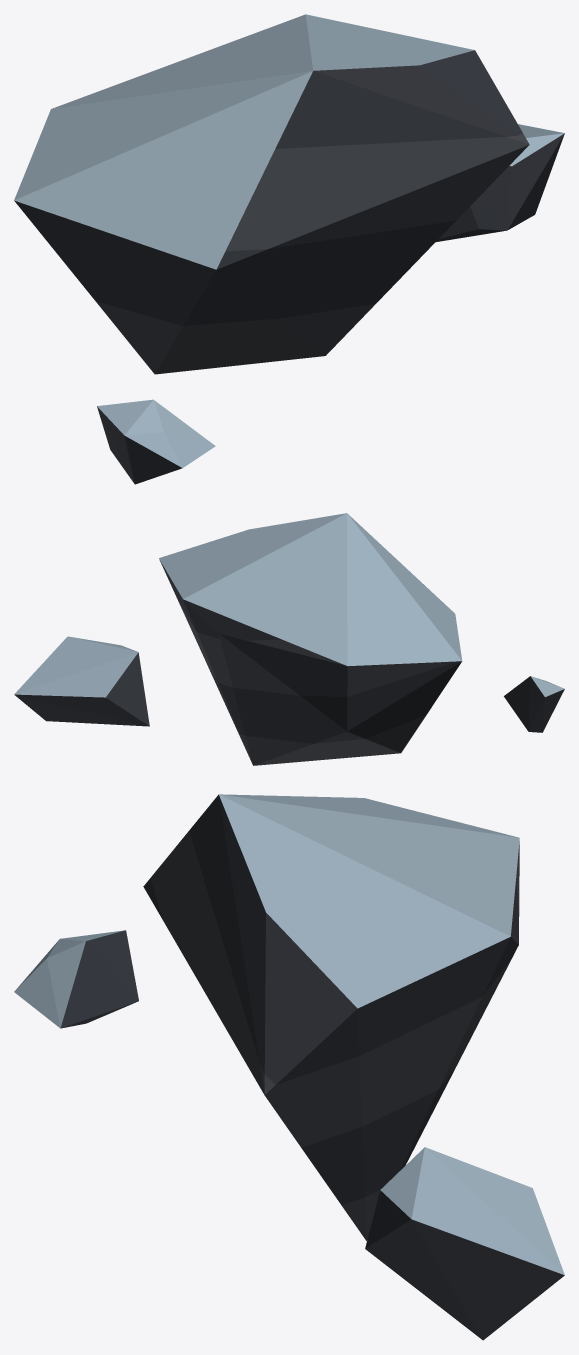
Rendered from boulder.glb.
3 views of the same model, one above another, from view 1: azimuth 30°, elevation 25°; view 2: azimuth 150°, elevation 25°; view 3: azimuth 270°, elevation 25° (orthographic). The views are drawn at different scales.
Parts seen in each view (by area): view 1: boulder; view 2: boulder; view 3: boulder.
Boxes of the visible parts, left/top/right/bottom form: boulder: left=14, top=14, right=564, bottom=484; boulder: left=14, top=513, right=564, bottom=765; boulder: left=14, top=794, right=564, bottom=1340.
Bounding box in the file's own units: 1.35 × 0.745 × 0.921.
